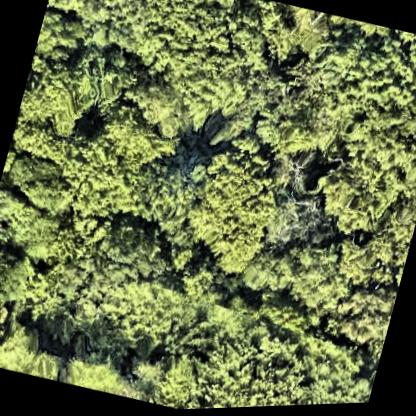tree-top: (128, 0, 269, 124), (312, 95, 416, 258), (169, 143, 290, 278), (57, 103, 173, 243), (251, 40, 360, 166), (192, 321, 320, 410), (252, 237, 354, 327), (96, 270, 192, 359), (324, 267, 400, 357), (13, 60, 90, 148), (71, 35, 149, 120), (84, 228, 176, 297), (132, 155, 200, 238), (3, 148, 80, 221), (359, 26, 416, 120), (80, 0, 162, 61), (291, 350, 377, 408), (0, 315, 71, 383), (58, 343, 134, 399), (144, 348, 207, 412), (25, 262, 85, 328), (249, 291, 315, 340), (34, 6, 86, 65), (175, 257, 219, 302), (0, 231, 32, 287), (45, 0, 106, 21), (0, 276, 14, 365)
